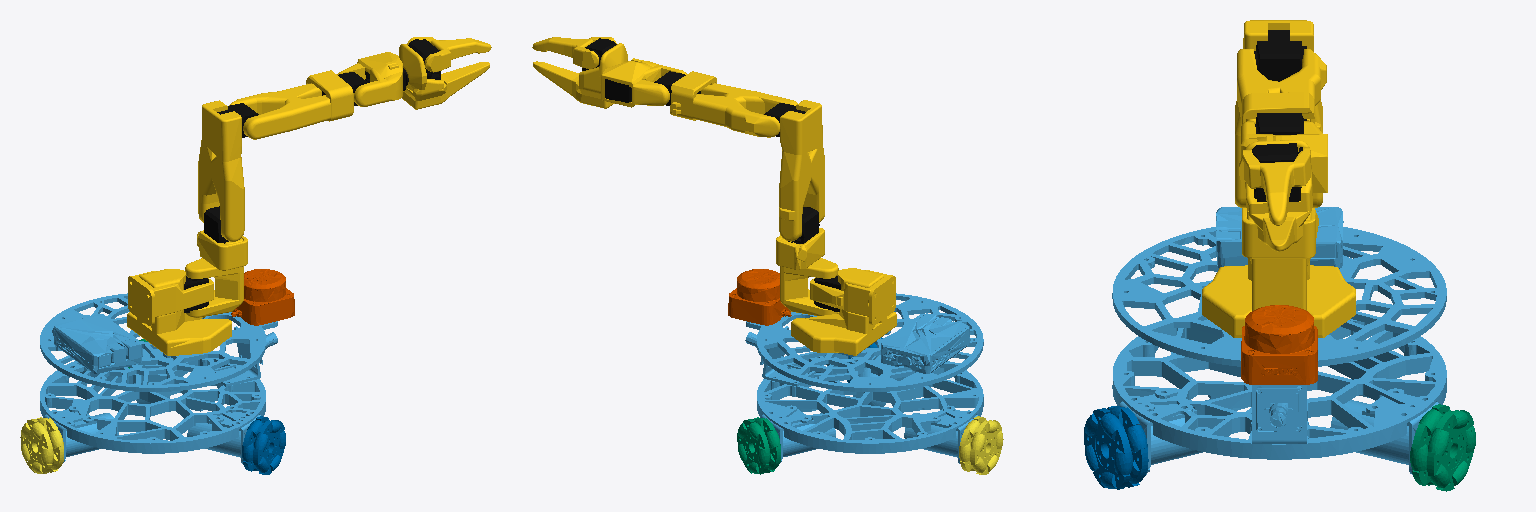
URDF robot description (mmr_bot):
<?xml version="1.0"?>
<robot name="mmr_bot">
  <link name="base_footprint" />
  <joint name="base_footprint_joint" type="fixed">
    <origin xyz="0 0 0.045" rpy="0 0 0" />
    <parent link="base_footprint" />
    <child link="base_link" />
  </joint>
  <link name="base_link">
    <visual>
      <origin xyz="0 0 0" rpy="0 0 0" />
      <geometry>
        <mesh filename="package://mmr_pkg/meshes/visual/base_link.obj" />
      </geometry>
    </visual>
    <collision>
      <origin xyz="0 0 0.006" rpy="0 0 0" />
      <geometry>
        <cylinder radius="0.12" length="0.012" />
      </geometry>
    </collision>
    <collision>
      <origin xyz="0 0 0.0745" rpy="0 0 0" />
      <geometry>
        <cylinder radius="0.12" length="0.005" />
      </geometry>
    </collision>
    <collision>
      <origin xyz="0 0 0" rpy="0 0 1.0471975511965976" />
      <geometry>
        <mesh filename="package://mmr_pkg/meshes/collision/motor_pod.stl" />
      </geometry>
    </collision>
    <collision>
      <origin xyz="0 0 0" rpy="0 0 3.141592653589793" />
      <geometry>
        <mesh filename="package://mmr_pkg/meshes/collision/motor_pod.stl" />
      </geometry>
    </collision>
    <collision>
      <origin xyz="0 0 0" rpy="0 0 5.235987755982989" />
      <geometry>
        <mesh filename="package://mmr_pkg/meshes/collision/motor_pod.stl" />
      </geometry>
    </collision>
    <collision>
      <origin xyz="0 0 0" rpy="0 0 0" />
      <geometry>
        <mesh filename="package://mmr_pkg/meshes/collision/camera_pod.stl" />
      </geometry>
    </collision>
    <collision>
      <origin xyz="0 0 0" rpy="0 0 0" />
      <geometry>
        <mesh filename="package://mmr_pkg/meshes/collision/pi_stack.stl" />
      </geometry>
    </collision>
    <inertial>
      <origin xyz="-0.000277 -3.2e-05 0.021827" rpy="0 0 0" />
      <mass value="1.0" />
      <inertia ixx="0.004760788" iyy="0.005840846" izz="0.007861537" ixy="5.7e-08" ixz="0.000351742" iyz="1.738e-06" />
    </inertial>
  </link>
  <joint name="wheel_0_joint" type="continuous">
    <origin xyz="0.06775000000000002                    0.11734644221279143                    -0.015" rpy="0 0 1.0471975511965976" />
    <parent link="base_link" />
    <child link="wheel_0_link" />
    <axis xyz="1 0 0" />
  </joint>
  <link name="wheel_0_link">
    <visual>
      <origin xyz="0 0 0" rpy="0 0 0" />
      <geometry>
        <mesh filename="package://mmr_pkg/meshes/visual/wheel.obj" />
      </geometry>
    </visual>
    <collision>
      <origin xyz="0 0 0" rpy="0 1.5707963267948966 0" />
      <geometry>
        <cylinder radius="0.03" length="0.019" />
      </geometry>
    </collision>
    <inertial>
      <origin xyz="0 0 0" rpy="0 0 0" />
      <mass value="0.1" />
      <inertia ixx="4.4999999999999996e-05" iyy="2.550833333333333e-05" izz="2.550833333333333e-05" ixy="0" ixz="0" iyz="0" />
    </inertial>
  </link>
  <joint name="wheel_1_joint" type="continuous">
    <origin xyz="-0.1355                    1.6593964128446636e-17                    -0.015" rpy="0 0 3.141592653589793" />
    <parent link="base_link" />
    <child link="wheel_1_link" />
    <axis xyz="1 0 0" />
  </joint>
  <link name="wheel_1_link">
    <visual>
      <origin xyz="0 0 0" rpy="0 0 0" />
      <geometry>
        <mesh filename="package://mmr_pkg/meshes/visual/wheel.obj" />
      </geometry>
    </visual>
    <collision>
      <origin xyz="0 0 0" rpy="0 1.5707963267948966 0" />
      <geometry>
        <cylinder radius="0.03" length="0.019" />
      </geometry>
    </collision>
    <inertial>
      <origin xyz="0 0 0" rpy="0 0 0" />
      <mass value="0.1" />
      <inertia ixx="4.4999999999999996e-05" iyy="2.550833333333333e-05" izz="2.550833333333333e-05" ixy="0" ixz="0" iyz="0" />
    </inertial>
  </link>
  <joint name="wheel_2_joint" type="continuous">
    <origin xyz="0.06775000000000002                    -0.11734644221279143                    -0.015" rpy="0 0 5.235987755982989" />
    <parent link="base_link" />
    <child link="wheel_2_link" />
    <axis xyz="1 0 0" />
  </joint>
  <link name="wheel_2_link">
    <visual>
      <origin xyz="0 0 0" rpy="0 0 0" />
      <geometry>
        <mesh filename="package://mmr_pkg/meshes/visual/wheel.obj" />
      </geometry>
    </visual>
    <collision>
      <origin xyz="0 0 0" rpy="0 1.5707963267948966 0" />
      <geometry>
        <cylinder radius="0.03" length="0.019" />
      </geometry>
    </collision>
    <inertial>
      <origin xyz="0 0 0" rpy="0 0 0" />
      <mass value="0.1" />
      <inertia ixx="4.4999999999999996e-05" iyy="2.550833333333333e-05" izz="2.550833333333333e-05" ixy="0" ixz="0" iyz="0" />
    </inertial>
  </link>
  <joint name="laser_joint" type="fixed">
    <origin xyz="0.133781 4e-06 0.106801" rpy="0 0 0" />
    <parent link="base_link" />
    <child link="laser_frame" />
  </joint>
  <link name="laser_frame">
    <visual>
      <origin xyz="0 0 0" rpy="0 0 0" />
      <geometry>
        <mesh filename="package://mmr_pkg/meshes/visual/rplidar_c1.obj" />
      </geometry>
    </visual>
    <collision>
      <origin xyz="0 0 0" rpy="0 0 0" />
      <geometry>
        <mesh filename="package://mmr_pkg/meshes/collision/rplidar_c1.stl" />
      </geometry>
    </collision>
    <inertial>
      <origin xyz="-0.001128 -3e-06 -0.009419" rpy="0 0 0" />
      <mass value="0.11" />
      <inertia ixx="3.7988e-05" iyy="4.1294e-05" izz="5.0888e-05" ixy="0.0" ixz="-8.35e-07" iyz="0.0" />
    </inertial>
  </link>
  <material name="3d_printed">
    <color rgba="1.0 0.82 0.12 1.0" />
  </material>
  <material name="sts3215">
    <color rgba="0.1 0.1 0.1 1.0" />
  </material>
  <joint name="arm_base_joint" type="fixed">
    <origin xyz="0.014091 -0.000442 0.0792" rpy="0 0 0" />
    <parent link="base_link" />
    <child link="arm_base_link" />
  </joint>
  <link name="arm_base_link">
    <inertial>
      <origin xyz="0.0137179 -5.19711e-05 0.0334843" rpy="0 0 0" />
      <mass value="0.147" />
      <inertia ixx="0.000114686" ixy="-4.59787e-07" ixz="4.97151e-06" iyy="0.000136117" iyz="9.75275e-08" izz="0.000130364" />
    </inertial>
    <visual>
      <origin xyz="-0.00636471 -9.94414e-05 -0.0024" rpy="1.5708 -1.67685e-15 1.5708" />
      <geometry>
        <mesh filename="package://mmr_pkg/meshes/arm/base_motor_holder_so101_v1.stl" />
      </geometry>
      <material name="3d_printed" />
    </visual>
    <collision>
      <origin xyz="-0.00636471 -9.94414e-05 -0.0024" rpy="1.5708 -1.67685e-15 1.5708" />
      <geometry>
        <mesh filename="package://mmr_pkg/meshes/collision/arm/base_motor_holder_so101_v1.stl" />
      </geometry>
    </collision>
    <visual>
      <origin xyz="-0.00636471 -8.97657e-09 -0.0024" rpy="1.5708 -2.78073e-29 1.5708" />
      <geometry>
        <mesh filename="package://mmr_pkg/meshes/arm/base_so101_v2.stl" />
      </geometry>
      <material name="3d_printed" />
    </visual>
    <collision>
      <origin xyz="-0.00636471 -8.97657e-09 -0.0024" rpy="1.5708 -2.78073e-29 1.5708" />
      <geometry>
        <mesh filename="package://mmr_pkg/meshes/collision/arm/base_so101_v2.stl" />
      </geometry>
    </collision>
    <visual>
      <origin xyz="0.0263353 -8.97657e-09 0.0437" rpy="-8.21148e-16 7.84513e-18 1.249e-15" />
      <geometry>
        <mesh filename="package://mmr_pkg/meshes/arm/sts3215_03a_v1.stl" />
      </geometry>
      <material name="sts3215" />
    </visual>
    <collision>
      <origin xyz="0.0263353 -8.97657e-09 0.0437" rpy="-8.21148e-16 7.84513e-18 1.249e-15" />
      <geometry>
        <mesh filename="package://mmr_pkg/meshes/collision/arm/sts3215_03a_v1.stl" />
      </geometry>
    </collision>
    <visual>
      <origin xyz="-0.0309827 -0.000199441 0.0474" rpy="1.5708 -1.35493e-14 1.5708" />
      <geometry>
        <mesh filename="package://mmr_pkg/meshes/arm/waveshare_mounting_plate_so101_v2.stl" />
      </geometry>
      <material name="3d_printed" />
    </visual>
    <collision>
      <origin xyz="-0.0309827 -0.000199441 0.0474" rpy="1.5708 -1.35493e-14 1.5708" />
      <geometry>
        <mesh filename="package://mmr_pkg/meshes/collision/arm/waveshare_mounting_plate_so101_v2.stl" />
      </geometry>
    </collision>
  </link>
  <link name="arm_shoulder_link">
    <inertial>
      <origin xyz="-0.0307604 -1.66727e-05 -0.0252713" rpy="0 0 0" />
      <mass value="0.100006" />
      <inertia ixx="8.3759e-05" ixy="7.55525e-08" ixz="-1.16342e-06" iyy="8.10403e-05" iyz="1.54663e-07" izz="2.39783e-05" />
    </inertial>
    <visual>
      <origin xyz="-0.0303992 0.000422241 -0.0417" rpy="1.5708 1.5708 0" />
      <geometry>
        <mesh filename="package://mmr_pkg/meshes/arm/sts3215_03a_v1.stl" />
      </geometry>
      <material name="sts3215" />
    </visual>
    <collision>
      <origin xyz="-0.0303992 0.000422241 -0.0417" rpy="1.5708 1.5708 0" />
      <geometry>
        <mesh filename="package://mmr_pkg/meshes/collision/arm/sts3215_03a_v1.stl" />
      </geometry>
    </collision>
    <visual>
      <origin xyz="-0.0675992 -0.000177759 0.0158499" rpy="1.5708 -1.5708 0" />
      <geometry>
        <mesh filename="package://mmr_pkg/meshes/arm/motor_holder_so101_base_v1.stl" />
      </geometry>
      <material name="3d_printed" />
    </visual>
    <collision>
      <origin xyz="-0.0675992 -0.000177759 0.0158499" rpy="1.5708 -1.5708 0" />
      <geometry>
        <mesh filename="package://mmr_pkg/meshes/collision/arm/motor_holder_so101_base_v1.stl" />
      </geometry>
    </collision>
    <visual>
      <origin xyz="0.0122008 2.22413e-05 0.0464" rpy="-1.5708 2.35221e-33 0" />
      <geometry>
        <mesh filename="package://mmr_pkg/meshes/arm/rotation_pitch_so101_v1.stl" />
      </geometry>
      <material name="3d_printed" />
    </visual>
    <collision>
      <origin xyz="0.0122008 2.22413e-05 0.0464" rpy="-1.5708 2.35221e-33 0" />
      <geometry>
        <mesh filename="package://mmr_pkg/meshes/collision/arm/rotation_pitch_so101_v1.stl" />
      </geometry>
    </collision>
  </link>
  <link name="arm_upper_arm_link">
    <inertial>
      <origin xyz="-0.0898471 -0.00838224 0.0184089" rpy="0 0 0" />
      <mass value="0.103" />
      <inertia ixx="4.08002e-05" ixy="-1.97819e-05" ixz="-4.03016e-08" iyy="0.000147318" iyz="8.97326e-09" izz="0.000142487" />
    </inertial>
    <visual>
      <origin xyz="-0.11257 -0.0155 0.0187" rpy="-3.14159 -5.27356e-16 -1.5708" />
      <geometry>
        <mesh filename="package://mmr_pkg/meshes/arm/sts3215_03a_v1.stl" />
      </geometry>
      <material name="sts3215" />
    </visual>
    <collision>
      <origin xyz="-0.11257 -0.0155 0.0187" rpy="-3.14159 -5.27356e-16 -1.5708" />
      <geometry>
        <mesh filename="package://mmr_pkg/meshes/collision/arm/sts3215_03a_v1.stl" />
      </geometry>
    </collision>
    <visual>
      <origin xyz="-0.065085 0.012 0.0182" rpy="3.14159 -0 -1.30911e-30" />
      <geometry>
        <mesh filename="package://mmr_pkg/meshes/arm/upper_arm_so101_v1.stl" />
      </geometry>
      <material name="3d_printed" />
    </visual>
    <collision>
      <origin xyz="-0.065085 0.012 0.0182" rpy="3.14159 -0 -1.30911e-30" />
      <geometry>
        <mesh filename="package://mmr_pkg/meshes/collision/arm/upper_arm_so101_v1.stl" />
      </geometry>
    </collision>
  </link>
  <link name="arm_lower_arm_link">
    <inertial>
      <origin xyz="-0.0980701 0.00324376 0.0182831" rpy="0 0 0" />
      <mass value="0.104" />
      <inertia ixx="2.87438e-05" ixy="7.41152e-06" ixz="1.26409e-06" iyy="0.000159844" iyz="-4.90188e-08" izz="0.00014529" />
    </inertial>
    <visual>
      <origin xyz="-0.0648499 -0.032 0.0182" rpy="3.14159 -0 6.67202e-31" />
      <geometry>
        <mesh filename="package://mmr_pkg/meshes/arm/under_arm_so101_v1.stl" />
      </geometry>
      <material name="3d_printed" />
    </visual>
    <collision>
      <origin xyz="-0.0648499 -0.032 0.0182" rpy="3.14159 -0 6.67202e-31" />
      <geometry>
        <mesh filename="package://mmr_pkg/meshes/collision/arm/under_arm_so101_v1.stl" />
      </geometry>
    </collision>
    <visual>
      <origin xyz="-0.0648499 -0.032 0.018" rpy="-3.14159 -2.55351e-15 -1.83387e-30" />
      <geometry>
        <mesh filename="package://mmr_pkg/meshes/arm/motor_holder_so101_wrist_v1.stl" />
      </geometry>
      <material name="3d_printed" />
    </visual>
    <collision>
      <origin xyz="-0.0648499 -0.032 0.018" rpy="-3.14159 -2.55351e-15 -1.83387e-30" />
      <geometry>
        <mesh filename="package://mmr_pkg/meshes/collision/arm/motor_holder_so101_wrist_v1.stl" />
      </geometry>
    </collision>
    <visual>
      <origin xyz="-0.1224 0.0052 0.0187" rpy="-3.14159 -7.88861e-31 -3.14159" />
      <geometry>
        <mesh filename="package://mmr_pkg/meshes/arm/sts3215_03a_v1.stl" />
      </geometry>
      <material name="sts3215" />
    </visual>
    <collision>
      <origin xyz="-0.1224 0.0052 0.0187" rpy="-3.14159 -7.88861e-31 -3.14159" />
      <geometry>
        <mesh filename="package://mmr_pkg/meshes/collision/arm/sts3215_03a_v1.stl" />
      </geometry>
    </collision>
  </link>
  <link name="arm_wrist_link">
    <inertial>
      <origin xyz="-0.000103312 -0.0386143 0.0281156" rpy="0 0 0" />
      <mass value="0.079" />
      <inertia ixx="3.68263e-05" ixy="1.7893e-08" ixz="-5.28128e-08" iyy="2.5391e-05" iyz="3.6412e-06" izz="2.1e-05" />
    </inertial>
    <visual>
      <origin xyz="8.32667e-17 -0.0424 0.0306" rpy="1.5708 1.5708 0" />
      <geometry>
        <mesh filename="package://mmr_pkg/meshes/arm/sts3215_03a_no_horn_v1.stl" />
      </geometry>
      <material name="sts3215" />
    </visual>
    <collision>
      <origin xyz="8.32667e-17 -0.0424 0.0306" rpy="1.5708 1.5708 0" />
      <geometry>
        <mesh filename="package://mmr_pkg/meshes/collision/arm/sts3215_03a_no_horn_v1.stl" />
      </geometry>
    </collision>
    <visual>
      <origin xyz="0 -0.028 0.0181" rpy="-1.5708 -1.5708 0" />
      <geometry>
        <mesh filename="package://mmr_pkg/meshes/arm/wrist_roll_pitch_so101_v2.stl" />
      </geometry>
      <material name="3d_printed" />
    </visual>
    <collision>
      <origin xyz="0 -0.028 0.0181" rpy="-1.5708 -1.5708 0" />
      <geometry>
        <mesh filename="package://mmr_pkg/meshes/collision/arm/wrist_roll_pitch_so101_v2.stl" />
      </geometry>
    </collision>
  </link>
  <link name="arm_gripper_link">
    <inertial>
      <origin xyz="0.000213627 0.000245138 -0.025187" rpy="0 0 0" />
      <mass value="0.087" />
      <inertia ixx="2.75087e-05" ixy="-3.35241e-07" ixz="-5.7352e-06" iyy="4.33657e-05" iyz="-5.17847e-08" izz="3.45059e-05" />
    </inertial>
    <visual>
      <origin xyz="0.0077 0.0001 -0.0234" rpy="-1.5708 -5.19179e-17 -1.66533e-16" />
      <geometry>
        <mesh filename="package://mmr_pkg/meshes/arm/sts3215_03a_v1.stl" />
      </geometry>
      <material name="sts3215" />
    </visual>
    <collision>
      <origin xyz="0.0077 0.0001 -0.0234" rpy="-1.5708 -5.19179e-17 -1.66533e-16" />
      <geometry>
        <mesh filename="package://mmr_pkg/meshes/collision/arm/sts3215_03a_v1.stl" />
      </geometry>
    </collision>
    <visual>
      <origin xyz="8.32667e-17 -0.000218214 0.000949706" rpy="-3.14159 -5.55112e-17 0" />
      <geometry>
        <mesh filename="package://mmr_pkg/meshes/arm/wrist_roll_follower_so101_v1.stl" />
      </geometry>
      <material name="3d_printed" />
    </visual>
    <collision>
      <origin xyz="8.32667e-17 -0.000218214 0.000949706" rpy="-3.14159 -5.55112e-17 0" />
      <geometry>
        <mesh filename="package://mmr_pkg/meshes/collision/arm/wrist_roll_follower_so101_v1.stl" />
      </geometry>
    </collision>
  </link>
  <link name="arm_gripper_frame_link">
    <inertial>
      <origin xyz="0 0 0" rpy="0 0 0" />
      <mass value="1e-9" />
      <inertia ixx="0" ixy="0" ixz="0" iyy="0" iyz="0" izz="0" />
    </inertial>
  </link>
  <joint name="gripper_frame_joint" type="fixed">
    <origin xyz="-0.0079 -0.000218121 -0.0981274" rpy="0 3.14159 0" />
    <parent link="arm_gripper_link" />
    <child link="arm_gripper_frame_link" />
    <axis xyz="0 0 0" />
  </joint>
  <link name="arm_moving_jaw_so101_v1_link">
    <inertial>
      <origin xyz="-0.00157495 -0.0300244 0.0192755" rpy="0 0 0" />
      <mass value="0.012" />
      <inertia ixx="6.61427e-06" ixy="-3.19807e-07" ixz="-5.90717e-09" iyy="1.89032e-06" iyz="-1.09945e-07" izz="5.28738e-06" />
    </inertial>
    <visual>
      <origin xyz="-5.55112e-17 -5.55112e-17 0.0189" rpy="9.53145e-17 6.93889e-18 1.24077e-24" />
      <geometry>
        <mesh filename="package://mmr_pkg/meshes/arm/moving_jaw_so101_v1.stl" />
      </geometry>
      <material name="3d_printed" />
    </visual>
    <collision>
      <origin xyz="-5.55112e-17 -5.55112e-17 0.0189" rpy="9.53145e-17 6.93889e-18 1.24077e-24" />
      <geometry>
        <mesh filename="package://mmr_pkg/meshes/collision/arm/moving_jaw_so101_v1.stl" />
      </geometry>
    </collision>
  </link>
  <joint name="gripper" type="revolute">
    <origin xyz="0.0202 0.0188 -0.0234" rpy="1.5708 -5.24284e-08 -1.41553e-15" />
    <parent link="arm_gripper_link" />
    <child link="arm_moving_jaw_so101_v1_link" />
    <axis xyz="0 0 1" />
    <limit effort="10" velocity="10" lower="-0.174533" upper="1.74533" />
  </joint>
  <joint name="wrist_roll" type="revolute">
    <origin xyz="5.55112e-17 -0.0611 0.0181" rpy="1.5708 0.0486795 3.14159" />
    <parent link="arm_wrist_link" />
    <child link="arm_gripper_link" />
    <axis xyz="0 0 1" />
    <limit effort="10" velocity="10" lower="-2.74385" upper="2.84121" />
  </joint>
  <joint name="wrist_flex" type="revolute">
    <origin xyz="-0.1349 0.0052 3.62355e-17" rpy="4.02456e-15 8.67362e-16 -1.5708" />
    <parent link="arm_lower_arm_link" />
    <child link="arm_wrist_link" />
    <axis xyz="0 0 1" />
    <limit effort="10" velocity="10" lower="-1.65806" upper="1.65806" />
  </joint>
  <joint name="elbow_flex" type="revolute">
    <origin xyz="-0.11257 -0.028 1.73763e-16" rpy="-3.63608e-16 8.74301e-16 1.5708" />
    <parent link="arm_upper_arm_link" />
    <child link="arm_lower_arm_link" />
    <axis xyz="0 0 1" />
    <limit effort="10" velocity="10" lower="-1.69" upper="1.69" />
  </joint>
  <joint name="shoulder_lift" type="revolute">
    <origin xyz="-0.0303992 -0.0182778 -0.0542" rpy="-1.5708 -1.5708 0" />
    <parent link="arm_shoulder_link" />
    <child link="arm_upper_arm_link" />
    <axis xyz="0 0 1" />
    <limit effort="10" velocity="10" lower="-1.74533" upper="1.74533" />
  </joint>
  <joint name="shoulder_pan" type="revolute">
    <origin xyz="0.0388353 -8.97657e-09 0.0624" rpy="3.14159 4.18253e-17 -3.14159" />
    <parent link="arm_base_link" />
    <child link="arm_shoulder_link" />
    <axis xyz="0 0 1" />
    <limit effort="10" velocity="10" lower="-1.91986" upper="1.91986" />
  </joint>
</robot>

--- Facts derived from the render (not from the file) ---
Views: 3 orthographic renders of the robot side by side, from view 1: azimuth 30°, elevation 25°; view 2: azimuth 150°, elevation 25°; view 3: azimuth 270°, elevation 25°.
Model mmr_bot with 14 links and 13 joints (6 revolute, 3 continuous, 4 fixed), rooted at base_footprint, posed all joints at 0.
Links seen in each view (by area): view 1: base_link, arm_base_link, arm_upper_arm_link, arm_lower_arm_link, arm_shoulder_link, arm_gripper_link, laser_frame, arm_wrist_link, wheel_2_link, wheel_1_link, arm_moving_jaw_so101_v1_link; view 2: base_link, arm_base_link, arm_upper_arm_link, arm_lower_arm_link, arm_shoulder_link, arm_wrist_link, laser_frame, arm_gripper_link, wheel_0_link, wheel_1_link, arm_moving_jaw_so101_v1_link; view 3: base_link, laser_frame, arm_base_link, arm_lower_arm_link, arm_shoulder_link, wheel_0_link, wheel_2_link, arm_upper_arm_link, arm_gripper_link, arm_moving_jaw_so101_v1_link, arm_wrist_link.
Link boxes in pixels (left/top/right/bottom): base_link: left=40, top=293, right=277, bottom=463; arm_base_link: left=127, top=269, right=231, bottom=355; arm_upper_arm_link: left=198, top=100, right=258, bottom=241; arm_lower_arm_link: left=229, top=70, right=367, bottom=139; arm_shoulder_link: left=185, top=206, right=247, bottom=317; arm_gripper_link: left=399, top=39, right=489, bottom=109; laser_frame: left=231, top=269, right=294, bottom=325; arm_wrist_link: left=337, top=52, right=408, bottom=106; wheel_2_link: left=242, top=416, right=285, bottom=474; wheel_1_link: left=20, top=417, right=63, bottom=473; arm_moving_jaw_so101_v1_link: left=407, top=37, right=491, bottom=72; base_link: left=745, top=293, right=983, bottom=463; arm_base_link: left=791, top=268, right=896, bottom=355; arm_upper_arm_link: left=764, top=100, right=824, bottom=241; arm_lower_arm_link: left=654, top=71, right=797, bottom=137; arm_shoulder_link: left=776, top=207, right=838, bottom=315; arm_wrist_link: left=601, top=58, right=686, bottom=107; laser_frame: left=728, top=269, right=791, bottom=325; arm_gripper_link: left=533, top=38, right=627, bottom=108; wheel_0_link: left=737, top=417, right=780, bottom=474; wheel_1_link: left=959, top=416, right=1003, bottom=474; arm_moving_jaw_so101_v1_link: left=532, top=37, right=616, bottom=68; base_link: left=1112, top=207, right=1446, bottom=474; laser_frame: left=1241, top=305, right=1317, bottom=384; arm_base_link: left=1202, top=258, right=1355, bottom=337; arm_lower_arm_link: left=1237, top=49, right=1326, bottom=134; arm_shoulder_link: left=1242, top=208, right=1318, bottom=310; wheel_0_link: left=1410, top=404, right=1475, bottom=491; wheel_2_link: left=1084, top=406, right=1148, bottom=489; arm_upper_arm_link: left=1235, top=20, right=1322, bottom=207; arm_gripper_link: left=1239, top=140, right=1312, bottom=251; arm_moving_jaw_so101_v1_link: left=1243, top=147, right=1310, bottom=225; arm_wrist_link: left=1241, top=121, right=1327, bottom=192.
Size in the robot's own frame: 0.5619 by 0.2817 by 0.3899 metres.
22 mesh visuals loaded from 16 distinct referenced files (13 binary STL, 3 OBJ).
